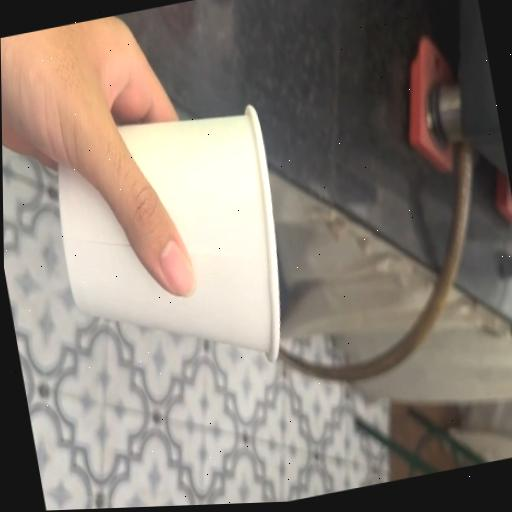Ly_giay: (57, 105, 278, 359)
